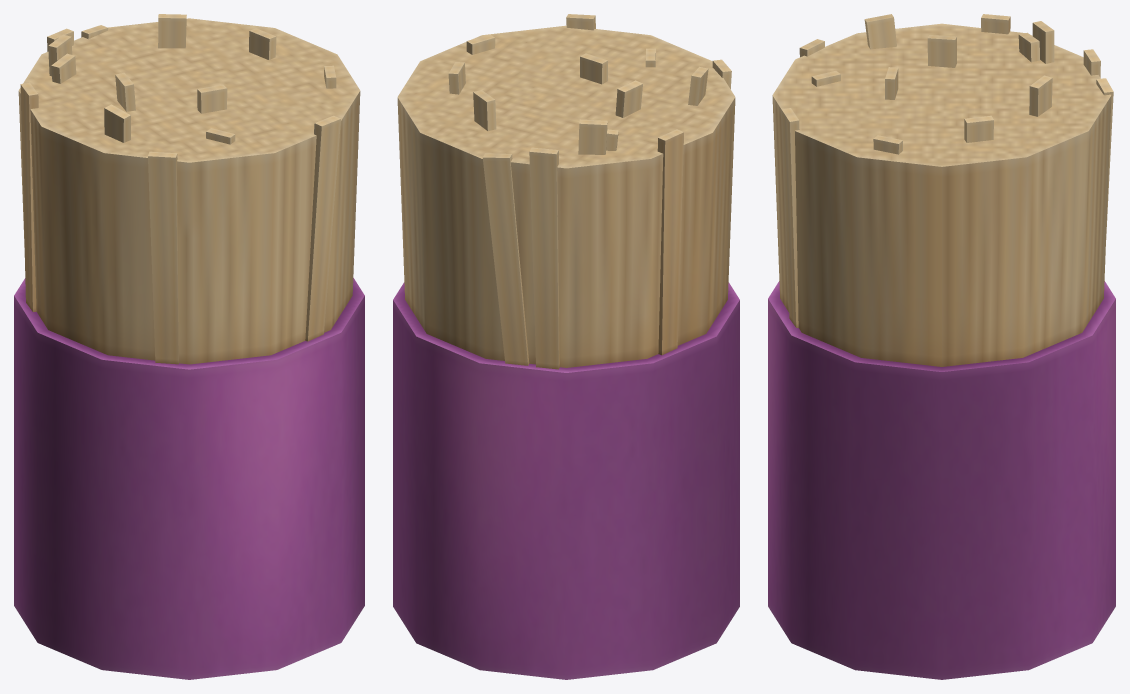
The model's file is jsf_ChopstickStand_03.fbx.
The picture shows the model from 3 angles, left to right: view 1: azimuth 30°, elevation 25°; view 2: azimuth 150°, elevation 25°; view 3: azimuth 270°, elevation 25°; orthographic projection.
Visible parts, largest first — view 1: jsf_ChopstickStand_03; view 2: jsf_ChopstickStand_03; view 3: jsf_ChopstickStand_03.
Boxes of the visible parts, x1,y1,x2,y2 form: jsf_ChopstickStand_03: [14, 14, 364, 679]; jsf_ChopstickStand_03: [393, 14, 739, 679]; jsf_ChopstickStand_03: [768, 14, 1115, 679].
Bounding box in the file's own units: 12.38 × 21.3 × 12.38.
